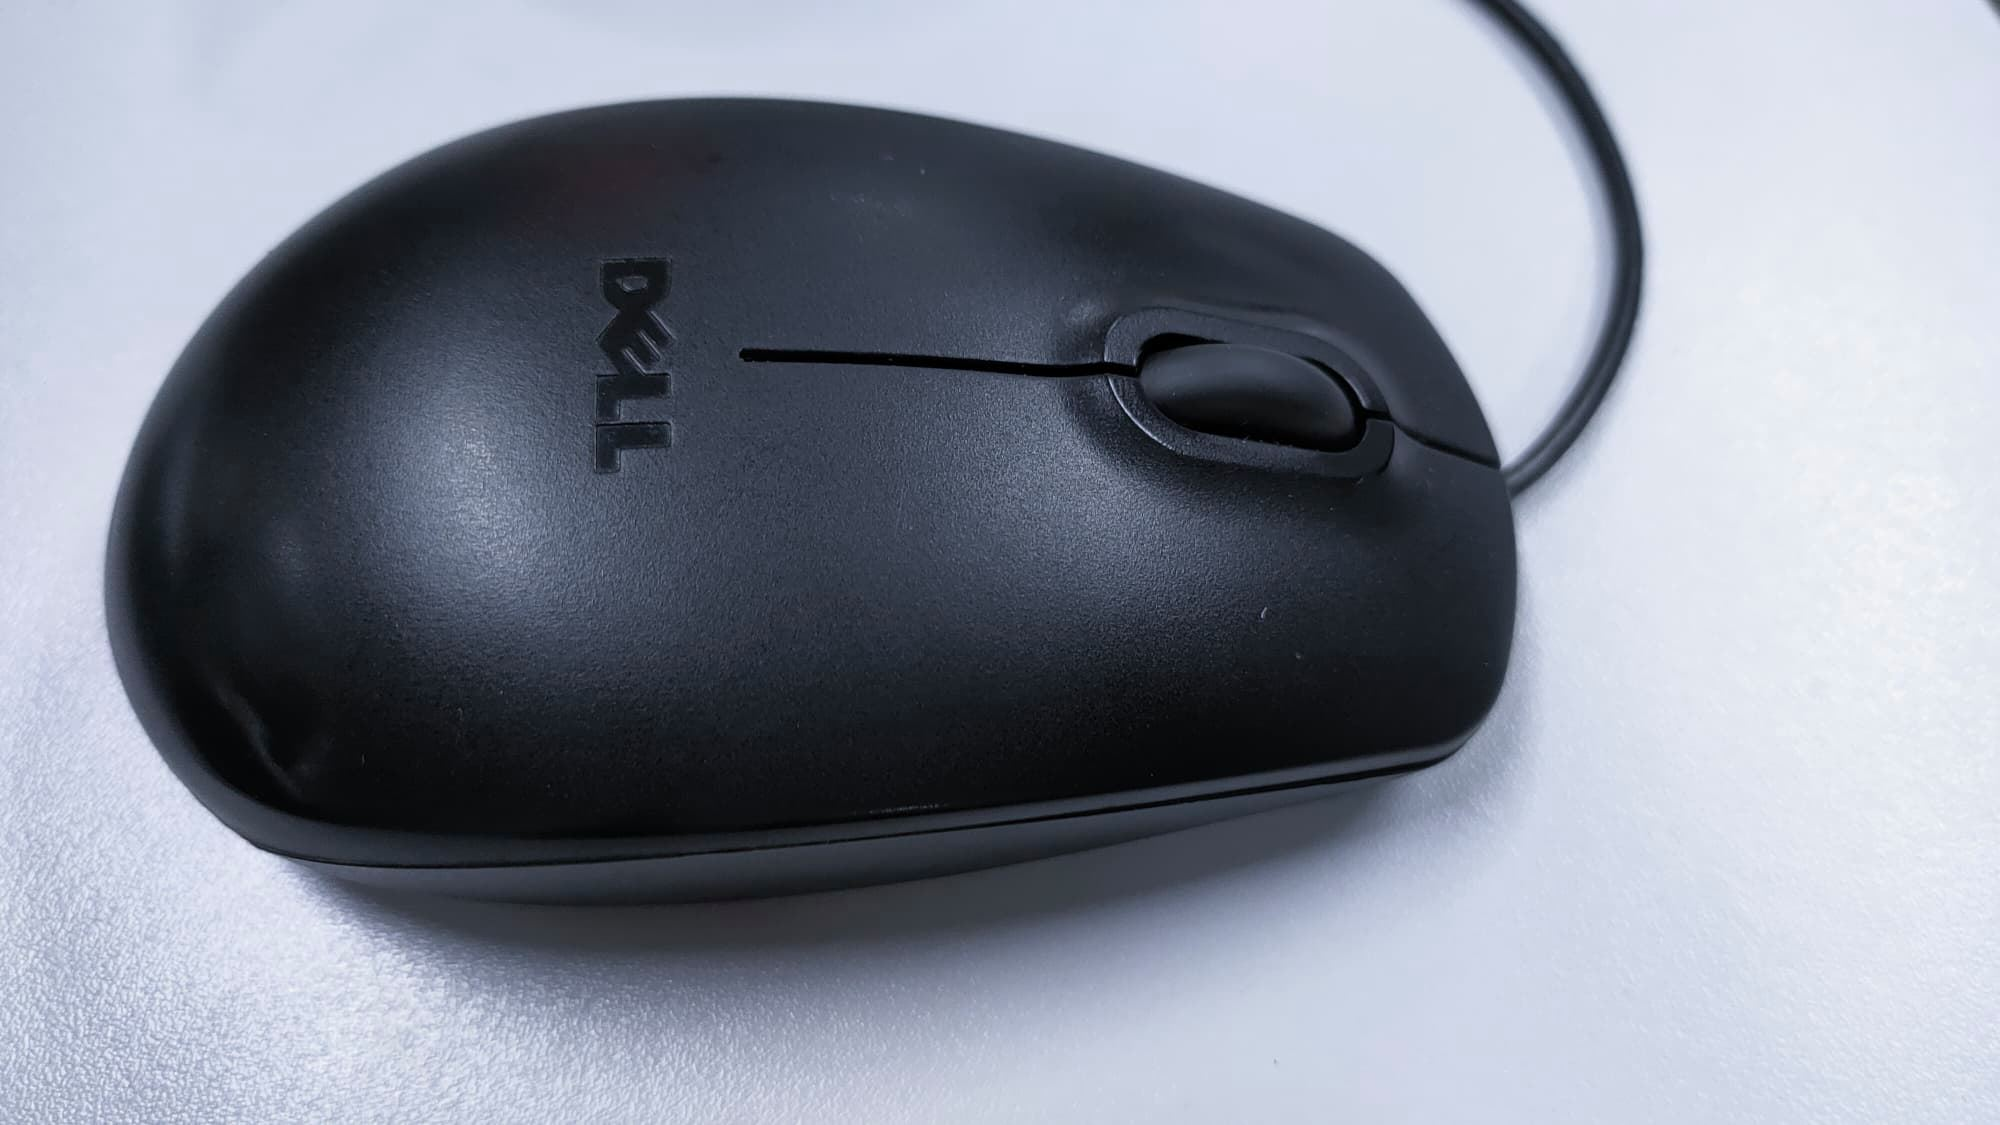mouse: (80, 69, 1556, 909)
